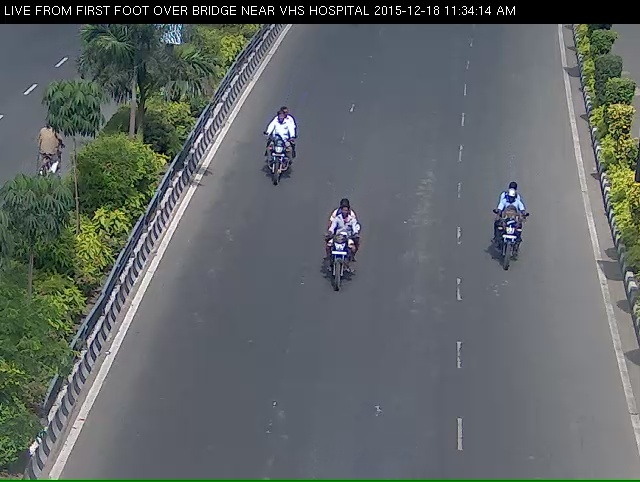Person: (485, 184, 543, 301), (313, 218, 376, 322), (245, 117, 301, 203)
